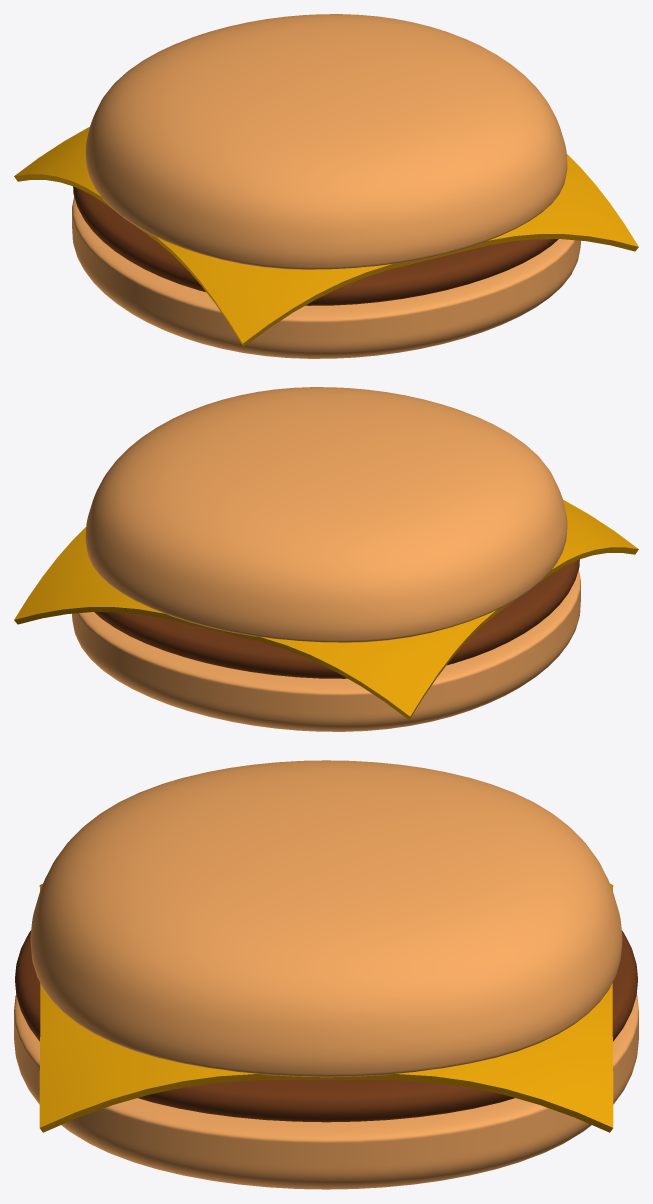
File: hamburger.glb
3 renders of one model, top to bottom at view 1: azimuth 30°, elevation 25°; view 2: azimuth 150°, elevation 25°; view 3: azimuth 270°, elevation 25°, orthographic. The views are drawn at different scales.
Visible parts, largest first — view 1: Cube.002, Cube, Plane, Cube.001; view 2: Cube.002, Cube, Plane, Cube.001; view 3: Cube.002, Cube, Plane, Cube.001.
Part boxes in pixels (x1=…): Cube.002: x1=85, y1=14, x2=567, y2=269; Cube: x1=72, y1=197, x2=580, y2=358; Plane: x1=14, y1=127, x2=638, y2=346; Cube.001: x1=73, y1=186, x2=558, y2=305; Cube.002: x1=85, y1=387, x2=567, y2=642; Cube: x1=72, y1=570, x2=580, y2=731; Plane: x1=14, y1=500, x2=638, y2=719; Cube.001: x1=94, y1=559, x2=579, y2=678; Cube.002: x1=30, y1=760, x2=622, y2=1077; Cube: x1=14, y1=994, x2=638, y2=1189; Plane: x1=39, y1=883, x2=613, y2=1132; Cube.001: x1=15, y1=930, x2=637, y2=1122.
Size of the model in its own units: 6.05 by 2.8 by 6.05.
